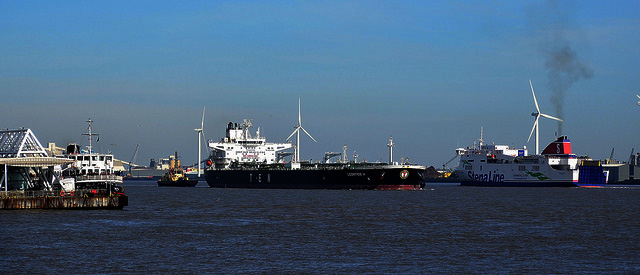PCC: (453, 140, 617, 191)
boat: (60, 122, 130, 190)
tanker: (200, 119, 430, 194)
tug_boat: (156, 154, 201, 184)
